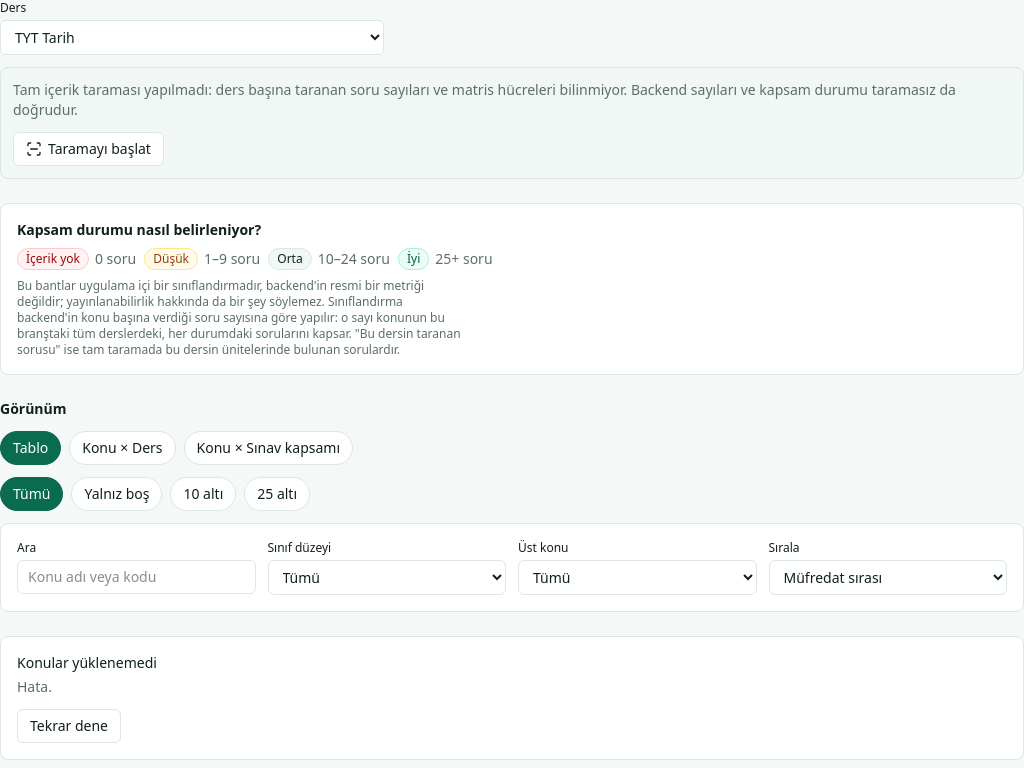
Test: CoverageCenter states › reports a failed topic list and retries it
Expected: the text "Konular yüklenemedi" is shown, x1=17 y1=653 x2=157 y2=672
Click the button "Tekrar dene" at (69, 726), box x1=17 y1=709 x2=121 y2=743
(page scrolled)
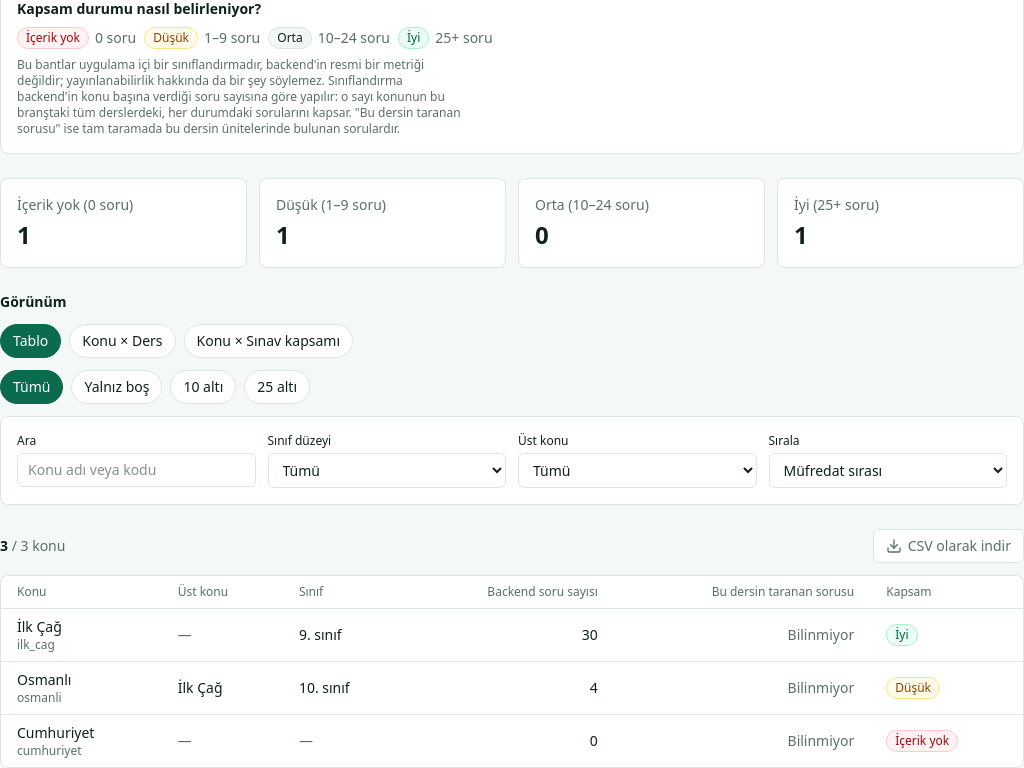
Expected: the table named "Konu kapsam tablosu" is shown, x1=1 y1=576 x2=1023 y2=767
